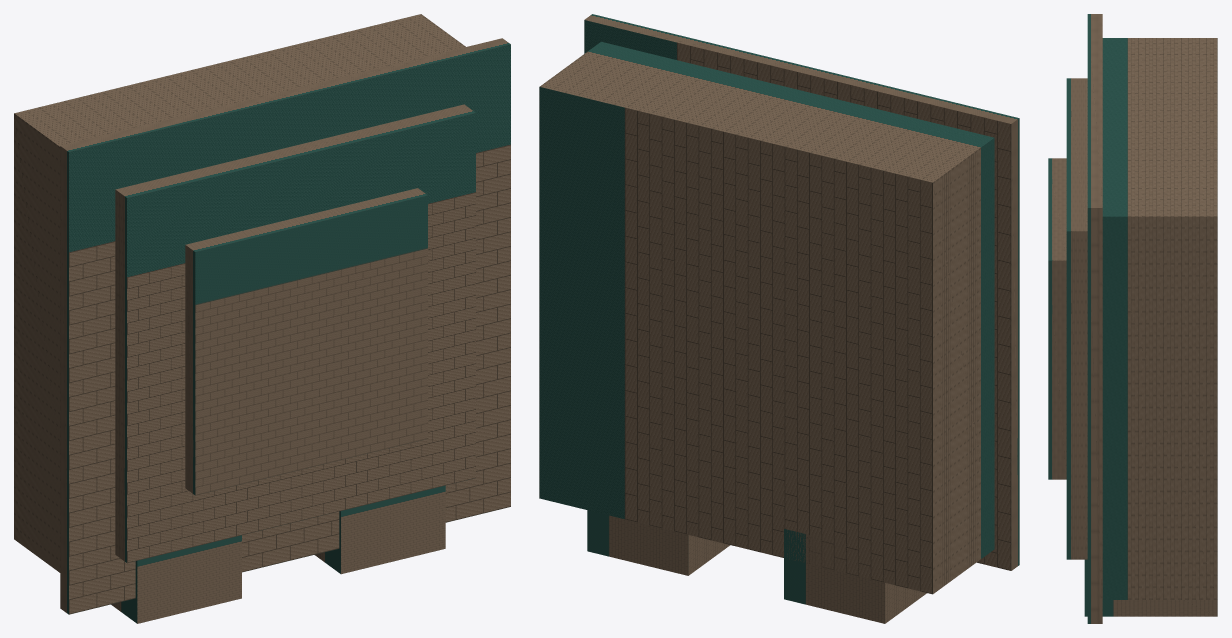
The model's file is SM_Temple_Cella.obj.
The picture shows the model from 3 angles, left to right: view 1: azimuth 30°, elevation 25°; view 2: azimuth 150°, elevation 25°; view 3: azimuth 270°, elevation 25°; orthographic projection. The views are drawn at different scales.
Parts seen in each view (by area): view 1: SM_Temple_Cella; view 2: SM_Temple_Cella; view 3: SM_Temple_Cella.
Boxes of the visible parts, x1,y1,x2,y2 form: SM_Temple_Cella: (14,14,510,623); SM_Temple_Cella: (539,14,1019,623); SM_Temple_Cella: (1048,14,1217,623).
Size of the model in its own units: 1520 by 1600 by 560.
1 material, 1 textured.
